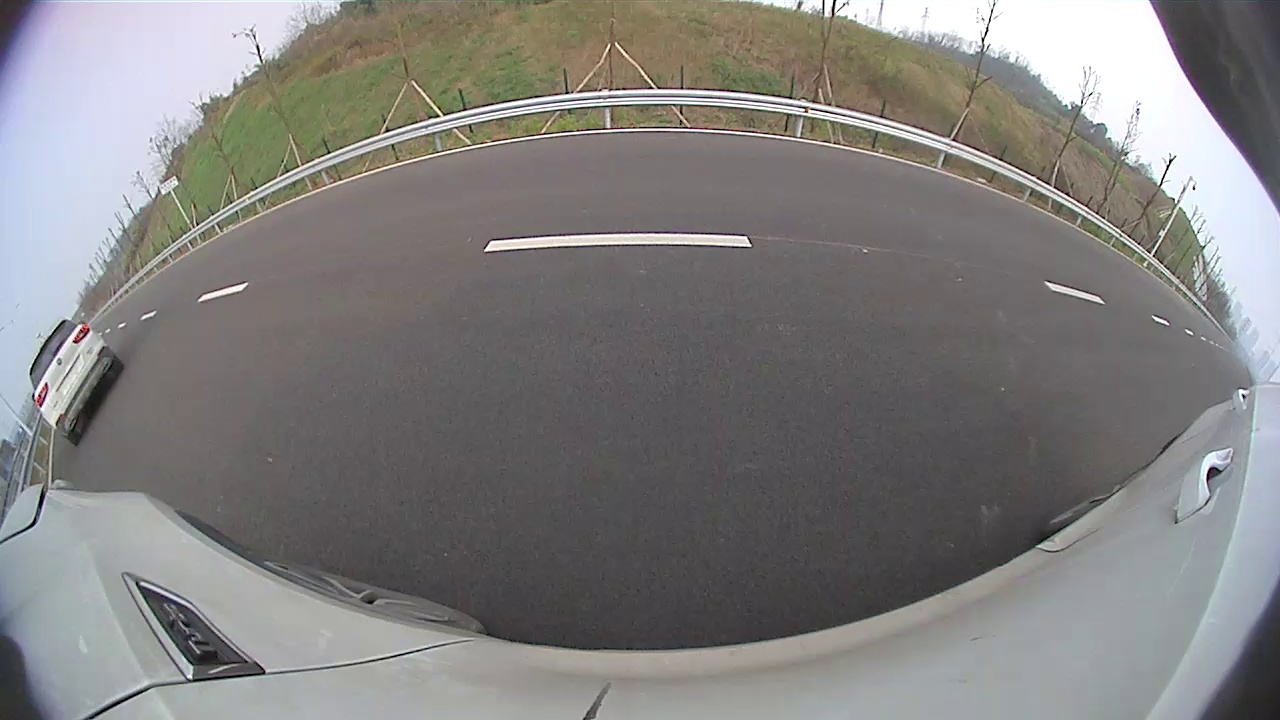car: (28, 320, 124, 445)
